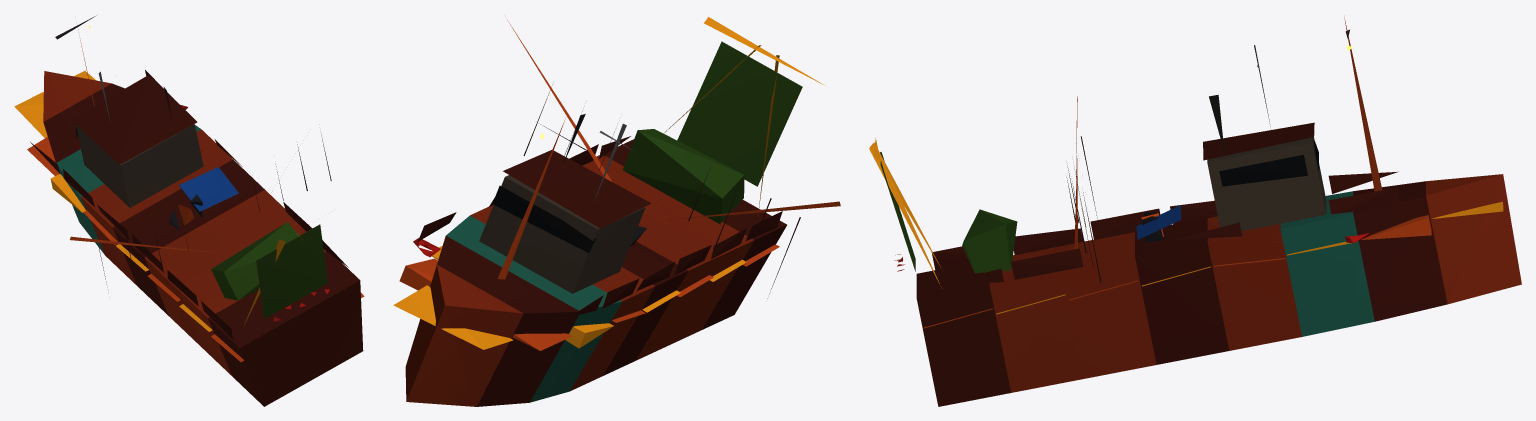
File: tb_trawler_wreck.three-web-toon.lod25.glb
The picture shows the model from 3 angles, left to right: view 1: azimuth 30°, elevation 25°; view 2: azimuth 150°, elevation 25°; view 3: azimuth 270°, elevation 25°; orthographic projection. The views are drawn at different scales.
Visible parts, largest first — view 1: trawler_body_lod; view 2: trawler_body_lod; view 3: trawler_body_lod.
Part boxes in pixels (left/top/right/bottom): trawler_body_lod: left=14, top=15, right=364, bottom=406; trawler_body_lod: left=393, top=17, right=840, bottom=406; trawler_body_lod: left=869, top=17, right=1521, bottom=406.
Size of the model in its own units: 14.61 by 14.52 by 24.23.
